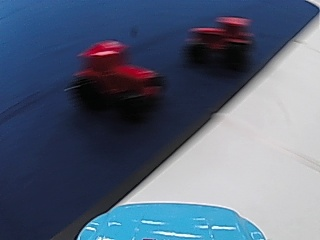tractor: (69, 40, 167, 111), (189, 14, 255, 68)
